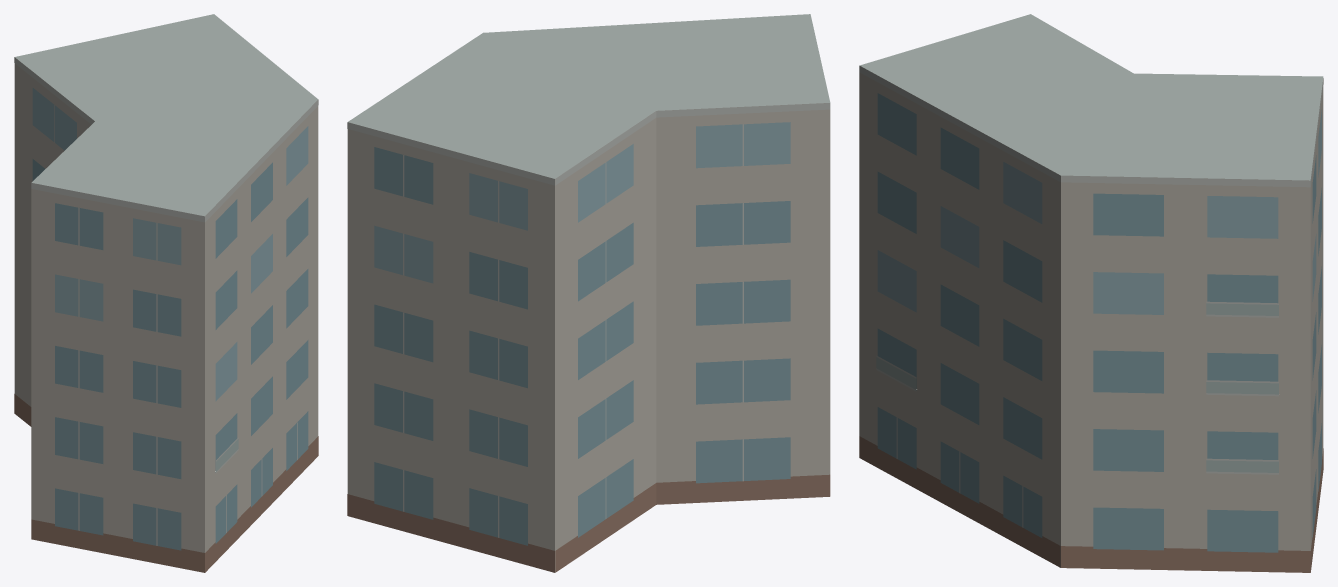
Rendered from survey-upis-32920669.glb.
The picture shows the model from 3 angles, left to right: view 1: azimuth 30°, elevation 25°; view 2: azimuth 150°, elevation 25°; view 3: azimuth 270°, elevation 25°; orthographic projection. The views are drawn at different scales.
Parts seen in each view (by area): view 1: survey-upis-32920669.tmp; view 2: survey-upis-32920669.tmp; view 3: survey-upis-32920669.tmp.
Boxes of the visible parts, <box> form: survey-upis-32920669.tmp: <box>14,14,318,572</box>; survey-upis-32920669.tmp: <box>347,14,830,572</box>; survey-upis-32920669.tmp: <box>859,14,1323,572</box>.
Size of the model in its own units: 12.93 by 14.2 by 15.23.
